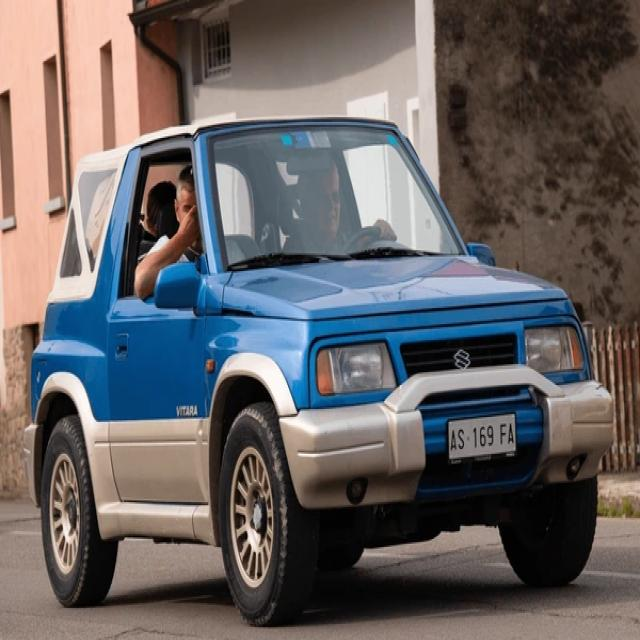suzuki: (454, 344, 472, 372)
